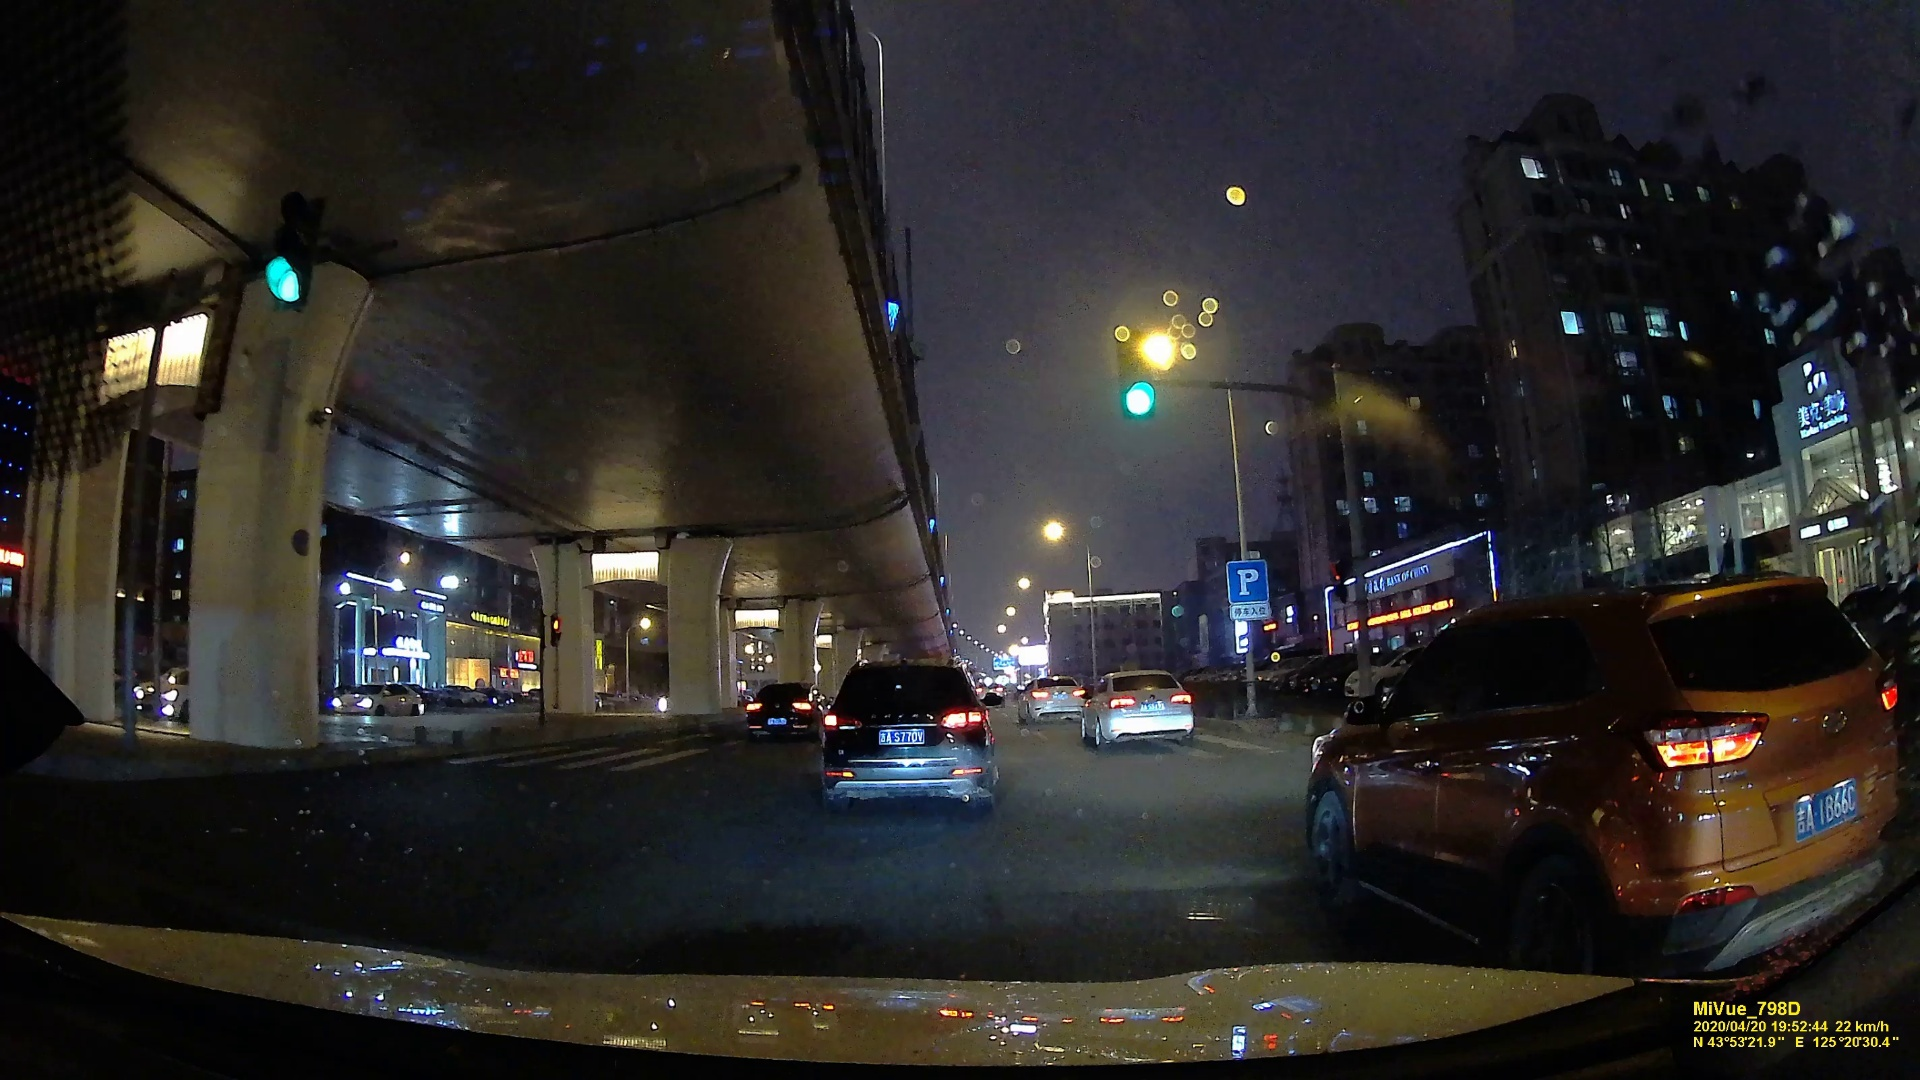traffic_sign: (257, 174, 319, 311), (1647, 705, 1774, 771), (1116, 344, 1159, 417), (1229, 559, 1266, 617), (549, 615, 563, 647)
vehicle: (1296, 578, 1898, 988), (812, 659, 1001, 820), (1081, 666, 1195, 746), (742, 683, 820, 738), (334, 679, 427, 720), (1026, 674, 1081, 720)
